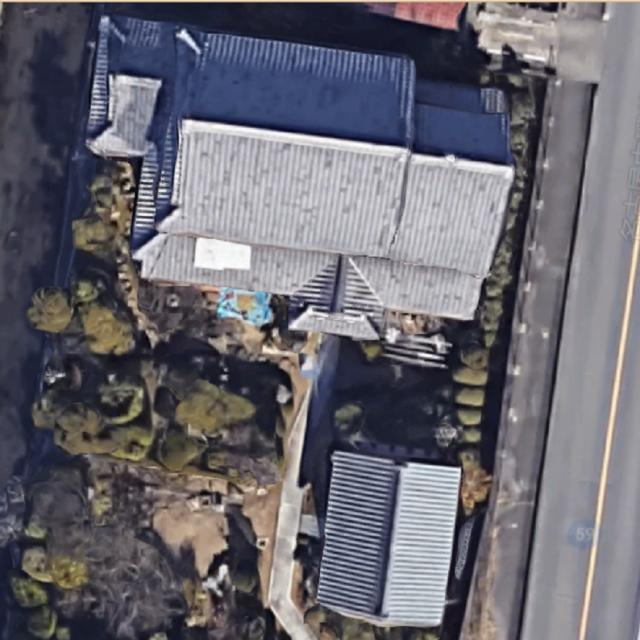Batiment: (89, 15, 514, 335), (318, 451, 461, 626)
